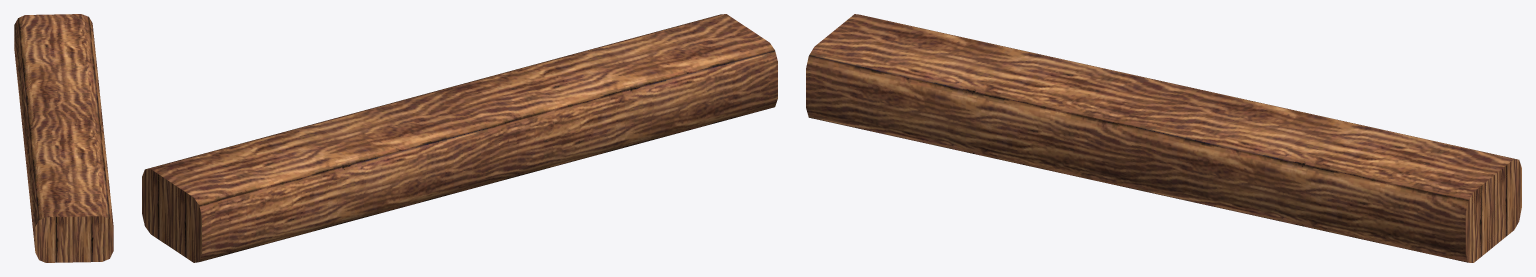
The model's file is OVERHILL_A_01_LINE224.fbx.
The picture shows the model from 3 angles, left to right: view 1: azimuth 30°, elevation 25°; view 2: azimuth 150°, elevation 25°; view 3: azimuth 270°, elevation 25°; orthographic projection. The views are drawn at different scales.
Parts seen in each view (by area): view 1: OVERHILL_A_01_LINE224; view 2: OVERHILL_A_01_LINE224; view 3: OVERHILL_A_01_LINE224.
Part boxes in pixels (bbox=[...]): OVERHILL_A_01_LINE224: bbox=[14, 14, 113, 262]; OVERHILL_A_01_LINE224: bbox=[142, 14, 777, 262]; OVERHILL_A_01_LINE224: bbox=[806, 14, 1521, 262].
Size of the model in its own units: 26964 by 4688 by 42776.
1 material, 1 textured.
